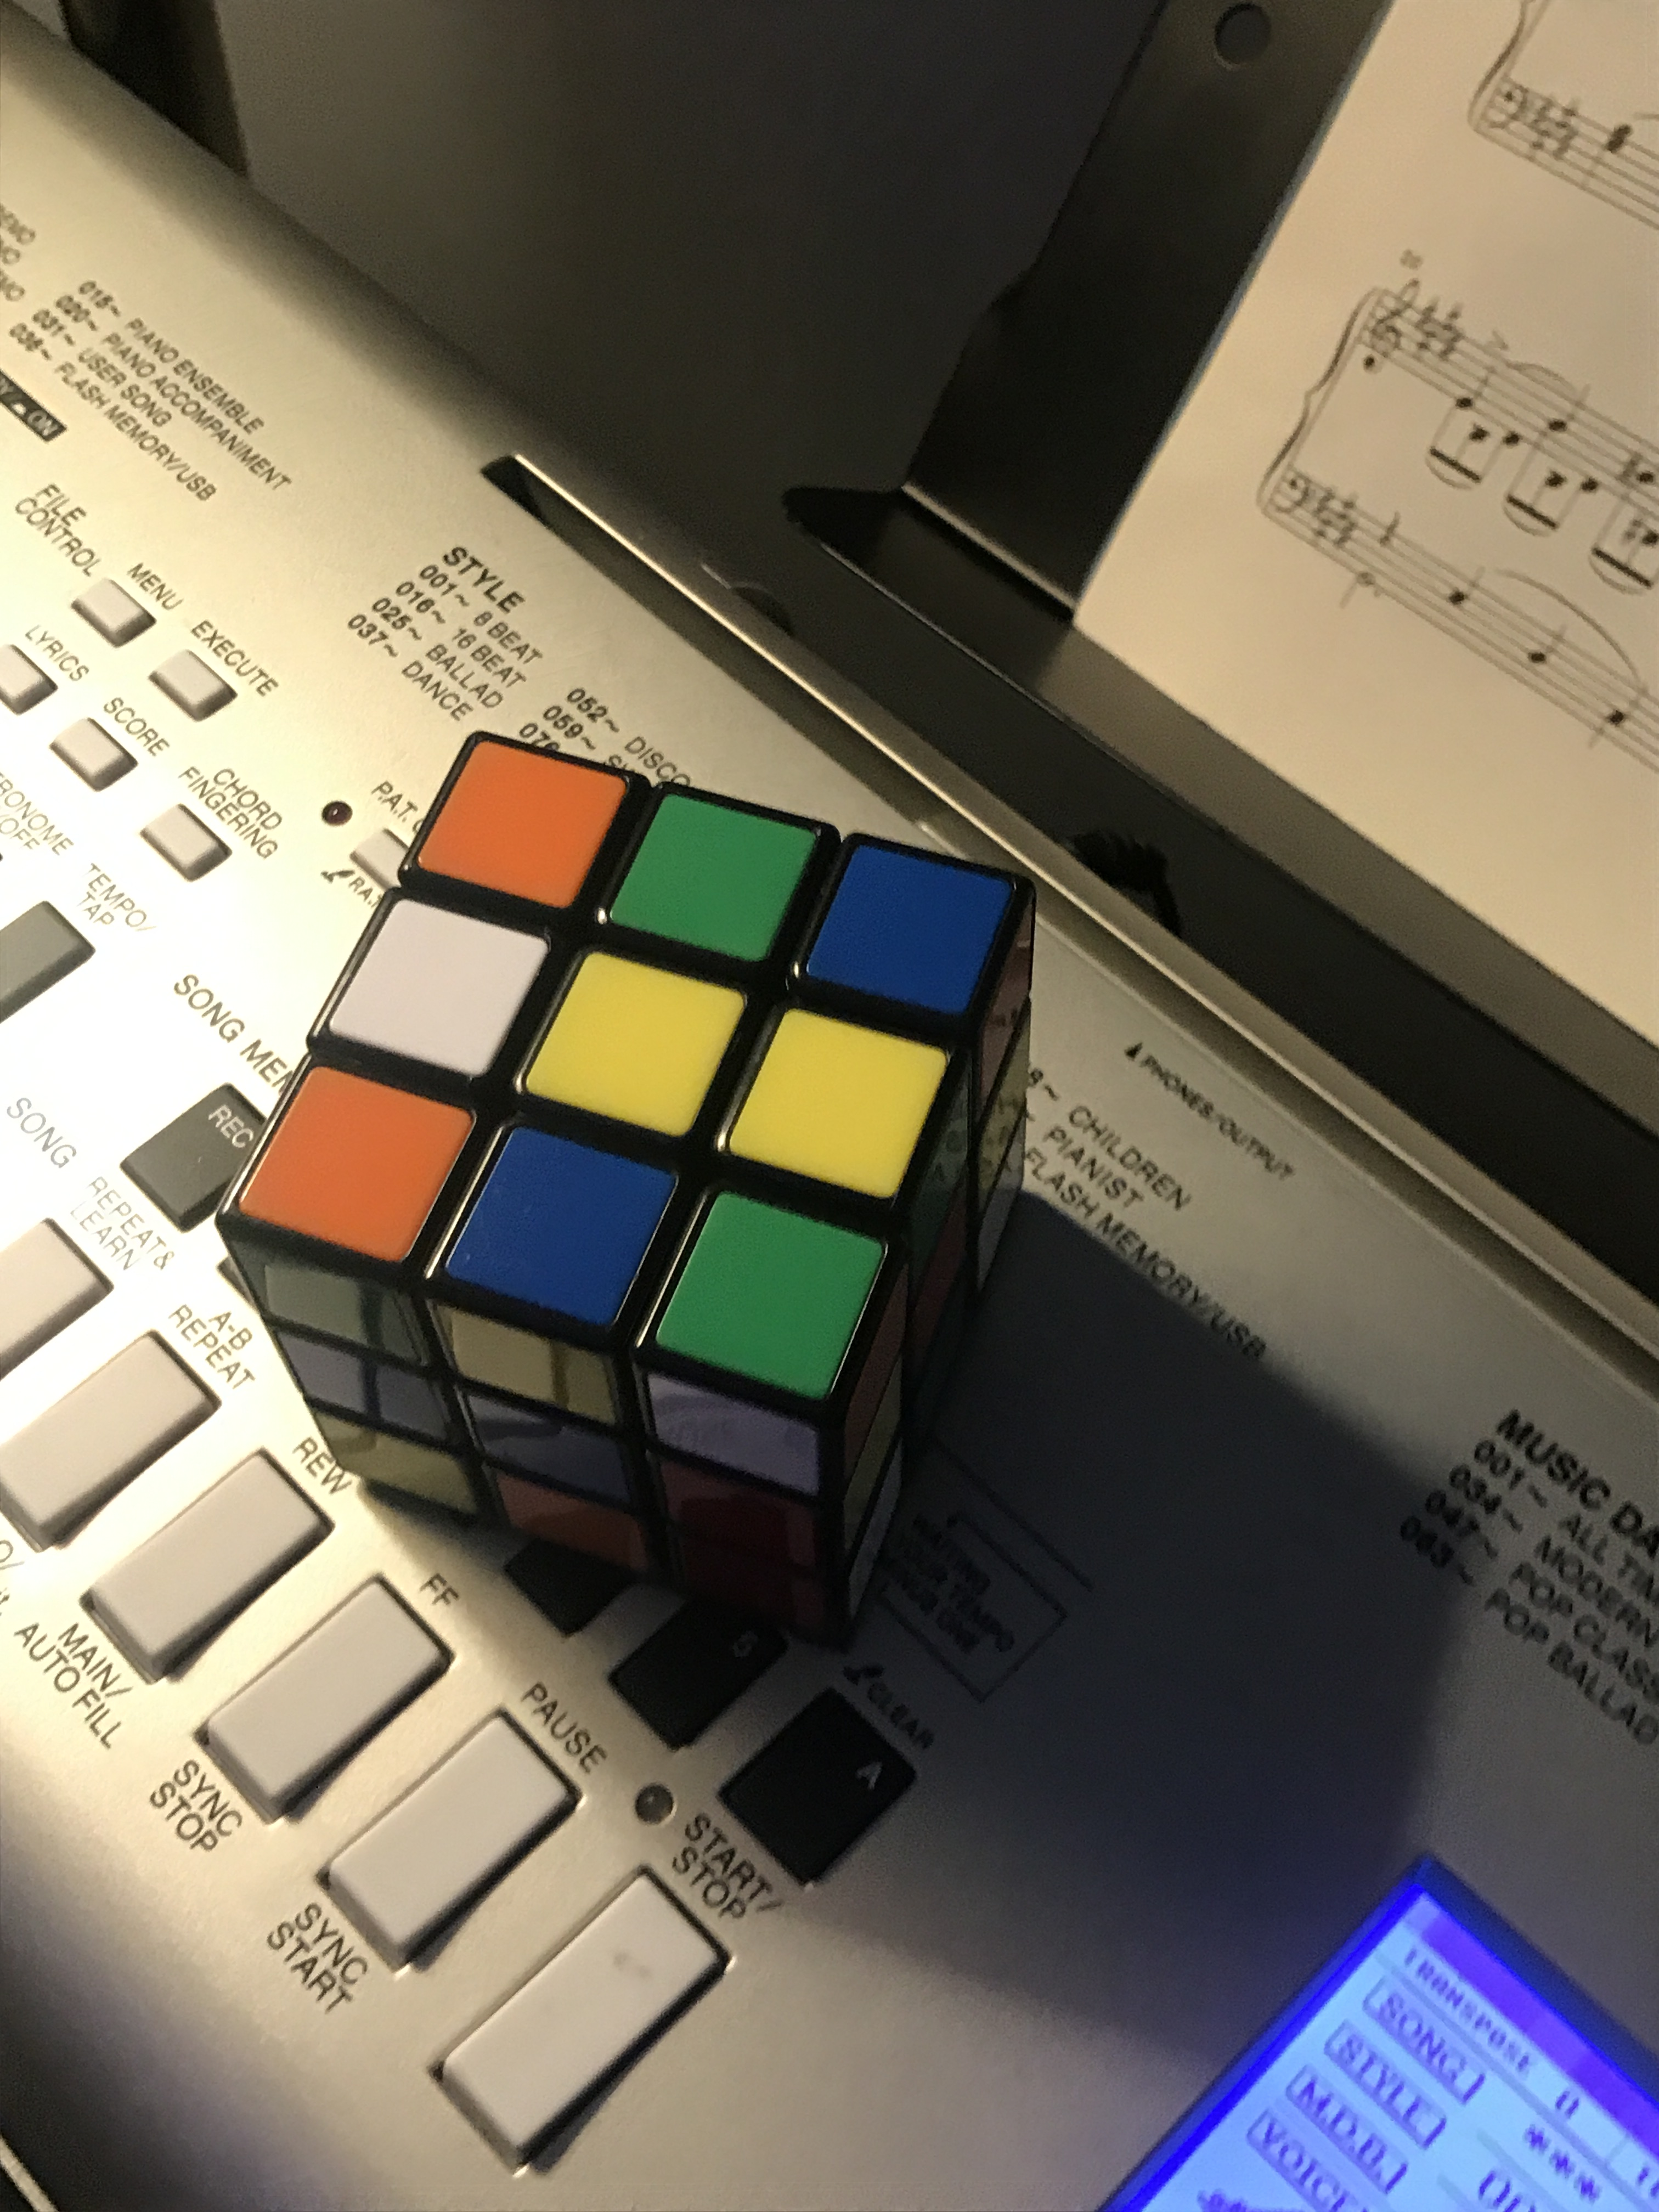rubiks: (242, 737, 1030, 1656)
